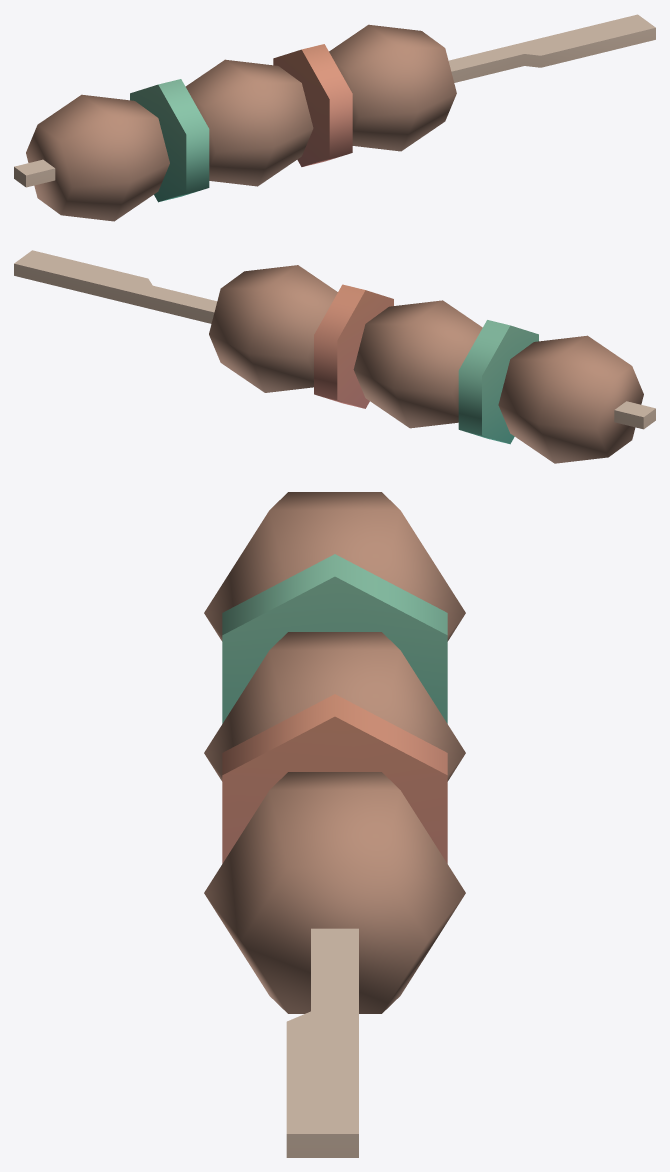
Rendered from skewer-vegetables.glb.
The picture shows the model from 3 angles, top to bottom: view 1: azimuth 30°, elevation 25°; view 2: azimuth 150°, elevation 25°; view 3: azimuth 270°, elevation 25°; orthographic projection. The views are drawn at different scales.
Visible parts, largest first — view 1: skewer-vegetables; view 2: skewer-vegetables; view 3: skewer-vegetables.
Part boxes in pixels (x1,y1,x2,y2): skewer-vegetables: [14, 14, 655, 221]; skewer-vegetables: [14, 250, 655, 463]; skewer-vegetables: [204, 492, 465, 1157].
Bounding box in the file's own units: 0.5967 × 0.1077 × 0.1085.
